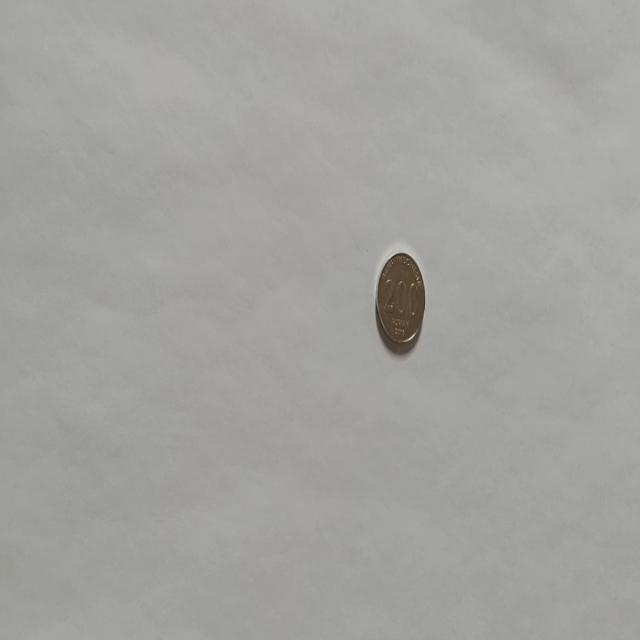dua ratus rupiah: (374, 250, 426, 345)
